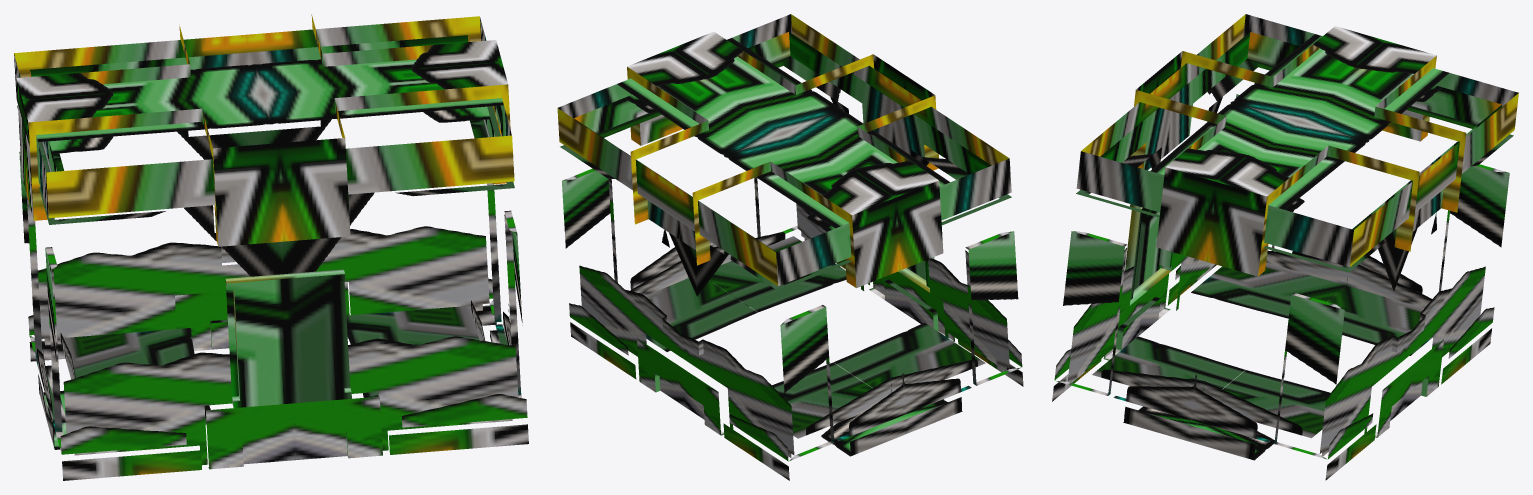
Rendered from event_chest_1 #400168.fbx.
3 views of the same model, side by side, from view 1: azimuth 30°, elevation 25°; view 2: azimuth 150°, elevation 25°; view 3: azimuth 270°, elevation 25° (orthographic). The views are drawn at different scales.
Parts seen in each view (by area): view 1: event_chest_1, lid_event_chest_1_mesh; view 2: lid_event_chest_1_mesh, event_chest_1; view 3: lid_event_chest_1_mesh, event_chest_1.
Boxes of the visible parts, <box> form: event_chest_1: <box>17,105,528,480</box>; lid_event_chest_1_mesh: <box>14,14,514,246</box>; lid_event_chest_1_mesh: <box>557,14,1011,287</box>; event_chest_1: <box>560,56,1023,480</box>; lid_event_chest_1_mesh: <box>1076,14,1518,276</box>; event_chest_1: <box>1052,58,1513,480</box>.
Bounding box in the file's own units: 160 × 108 × 153.
